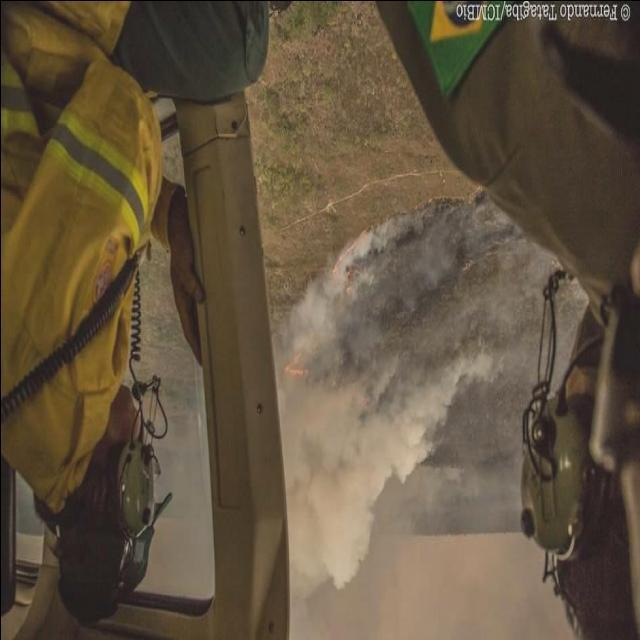Fire: (330, 222, 366, 278), (284, 347, 306, 385)
